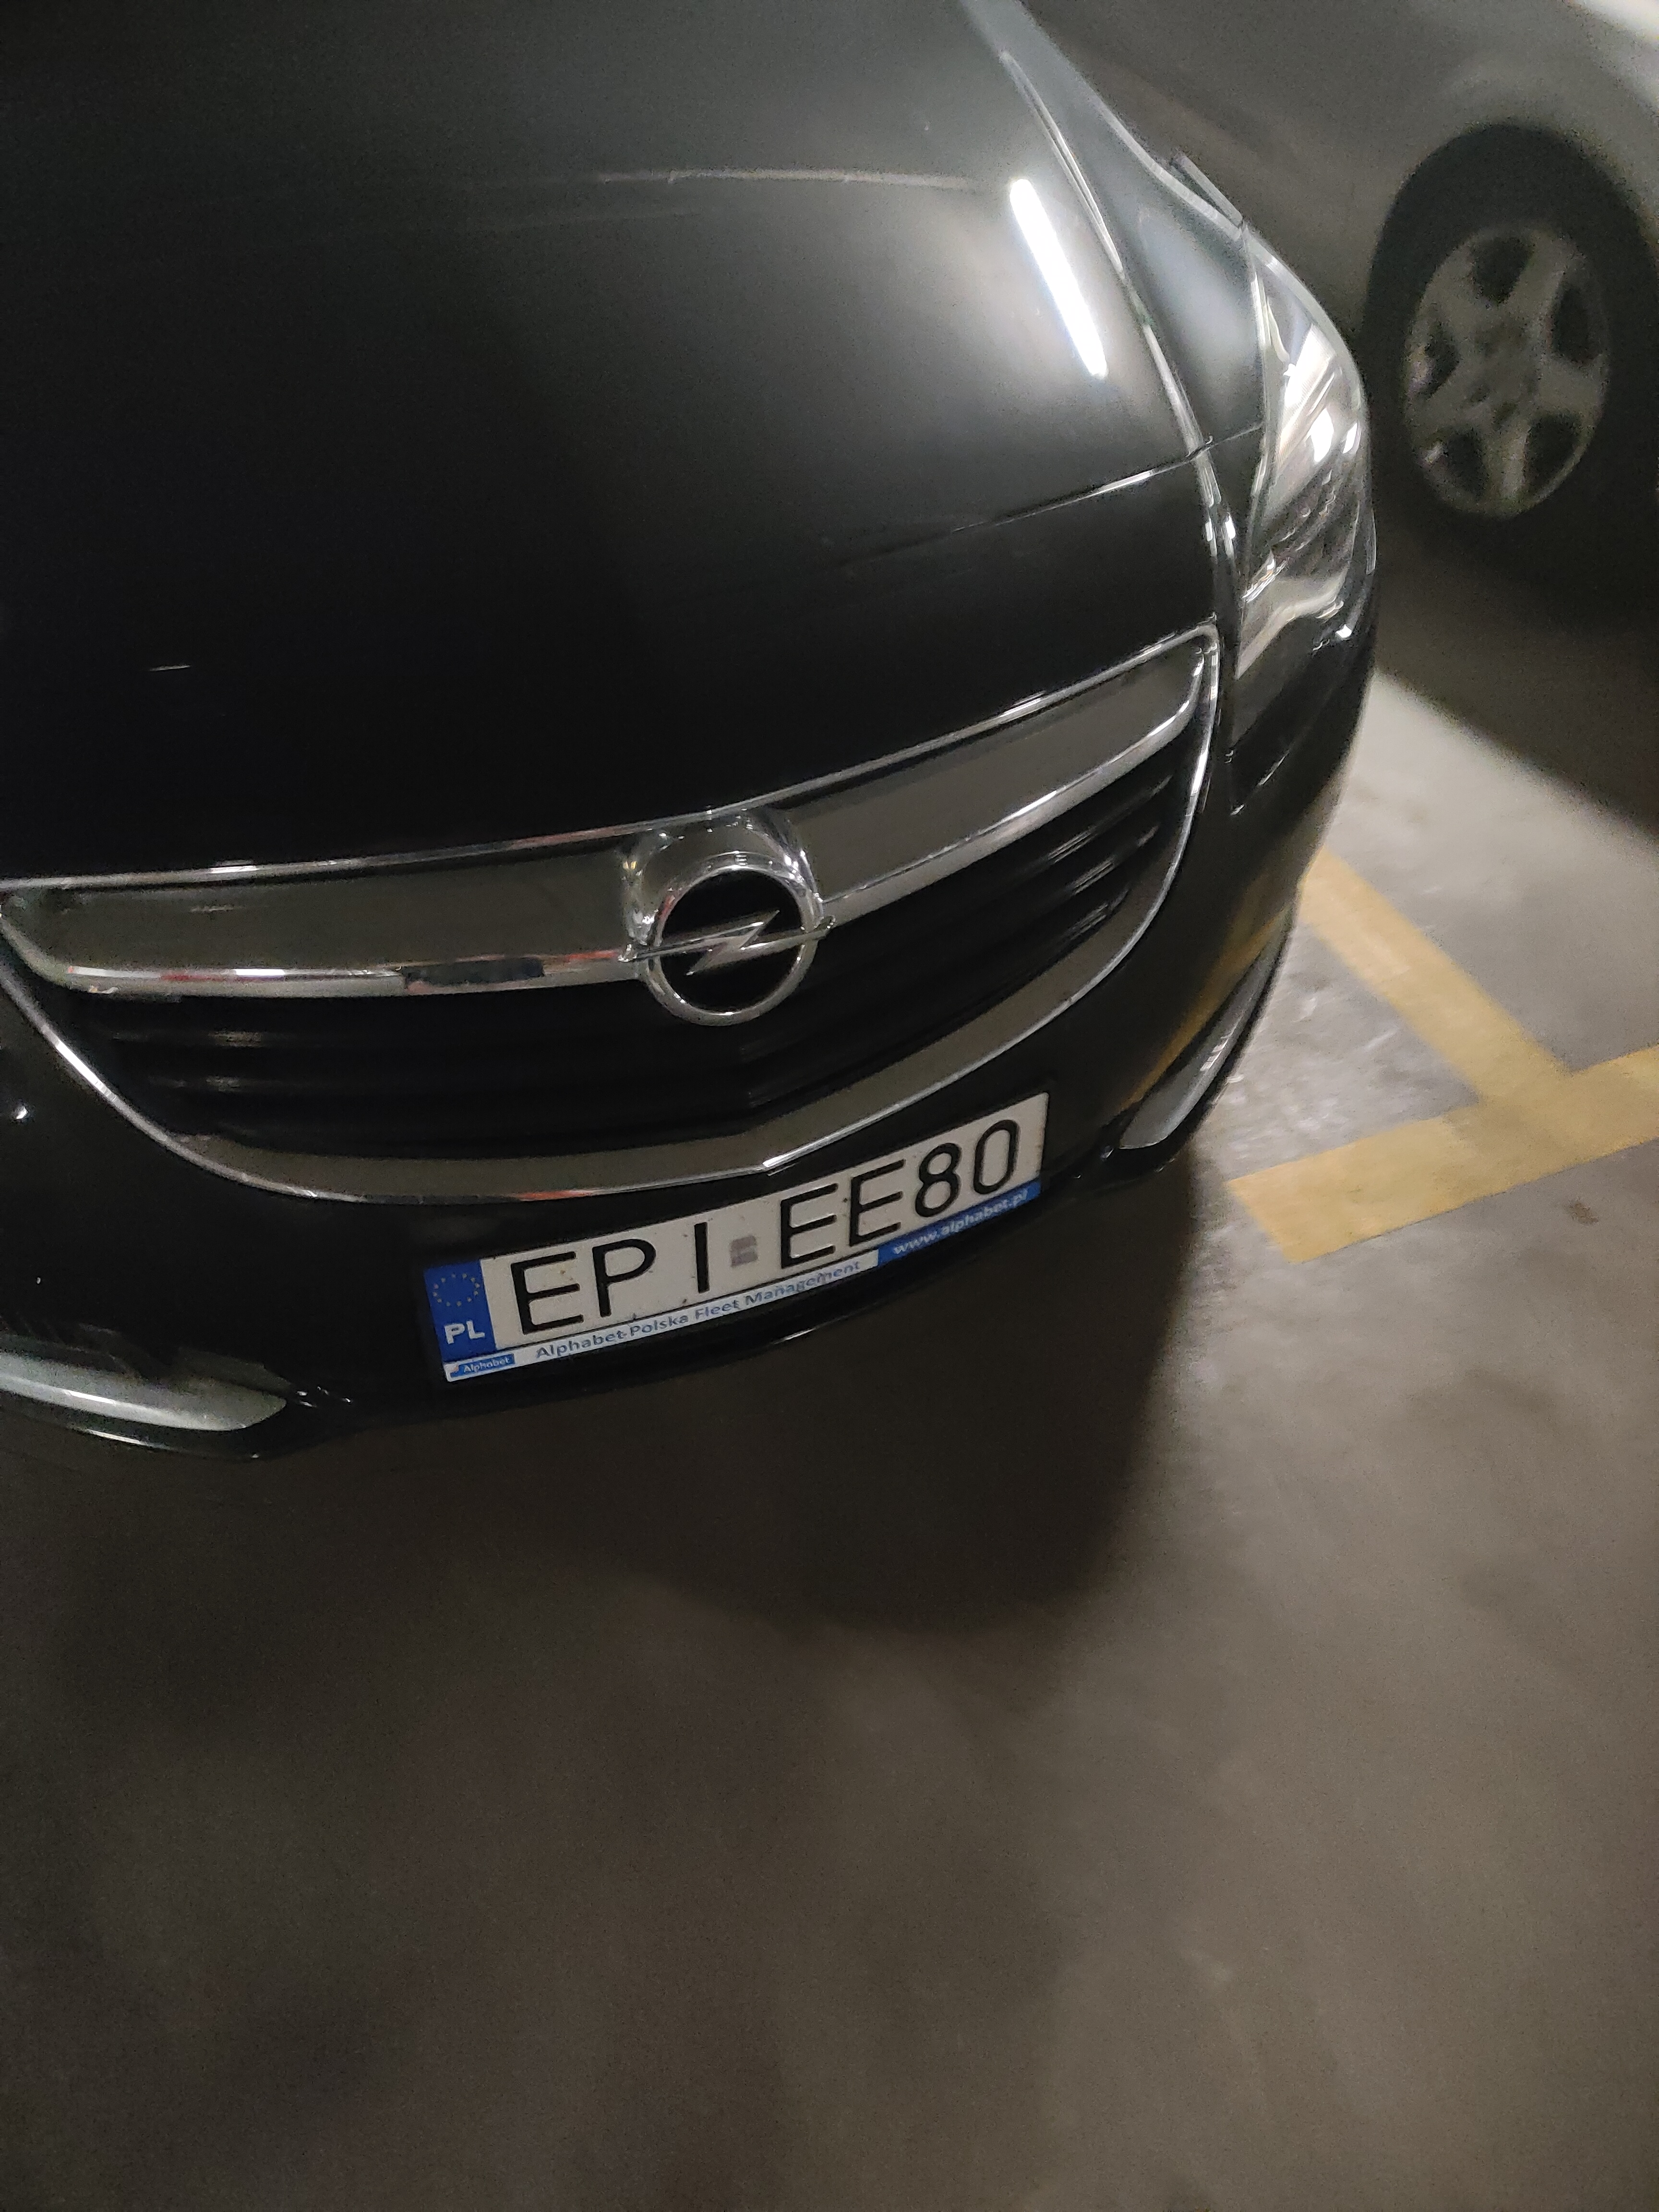number_plate: (421, 1084, 1065, 1399)
